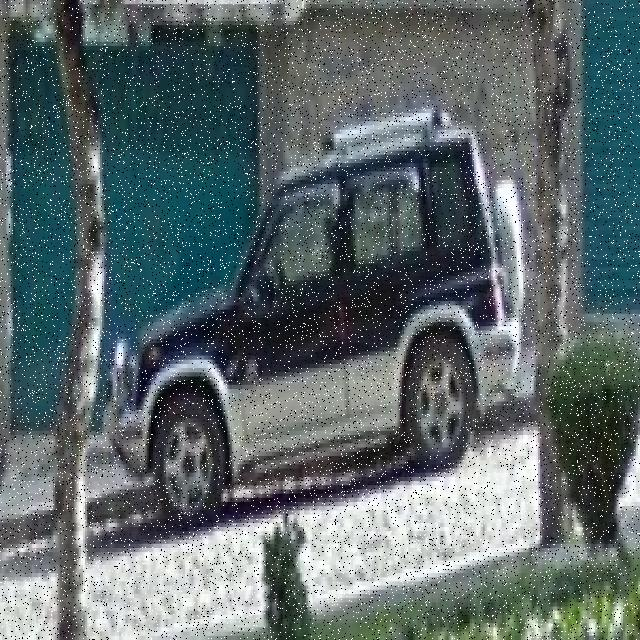cars: (102, 129, 526, 534)
